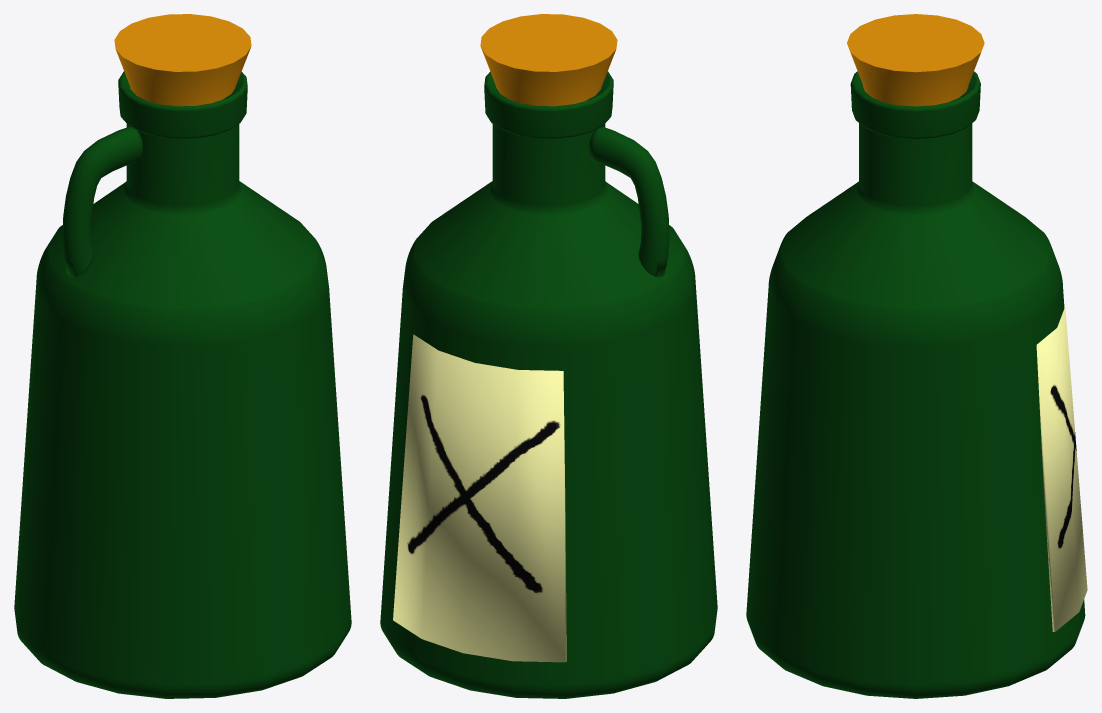
Rendered from Botella_Garrafon.fbx.
3 renders of one model, left to right at view 1: azimuth 30°, elevation 25°; view 2: azimuth 150°, elevation 25°; view 3: azimuth 270°, elevation 25°, orthographic.
Parts seen in each view (by area): view 1: Botella1, Tapon1; view 2: Botella1, pegatina.003, Tapon1; view 3: Botella1, pegatina.003, Tapon1.
Boxes of the visible parts, x1,y1,x2,y2 form: Botella1: (14,71,351,698); Tapon1: (114,14,251,106); Botella1: (380,71,717,698); pegatina.003: (393,334,566,662); Tapon1: (480,14,617,106); Botella1: (746,71,1085,698); pegatina.003: (1036,306,1087,631); Tapon1: (847,14,984,106).
Size of the model in its own units: 11.48 by 22.11 by 11.56.
3 materials, 1 textured.
